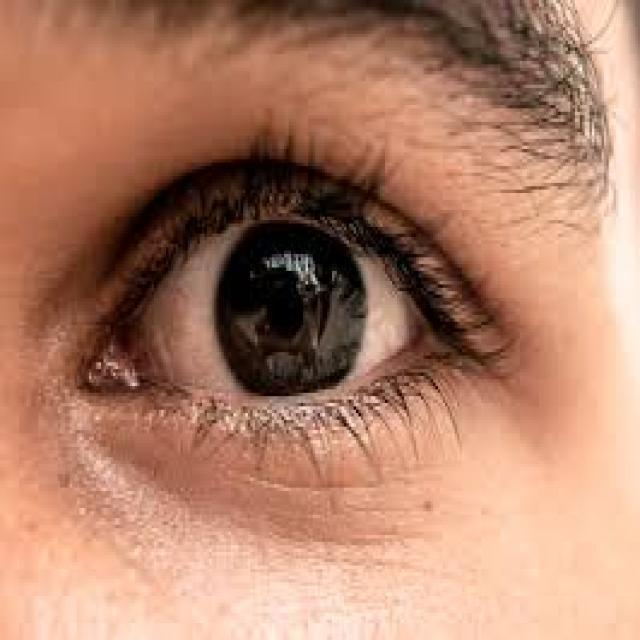Normal: (31, 76, 560, 525)
